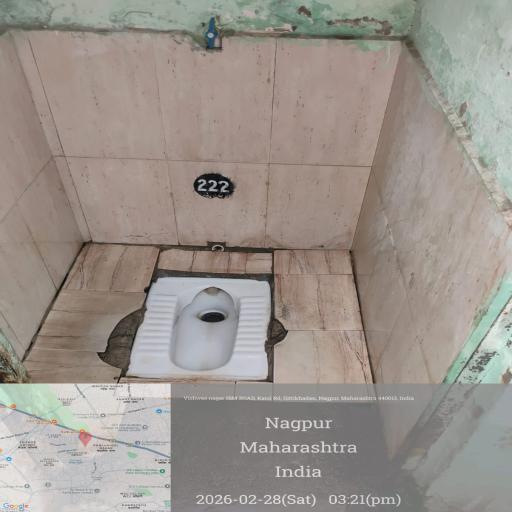clean_indian: (122, 262, 295, 398)
partial_dirty_floor: (42, 211, 369, 512), (34, 52, 410, 173)
